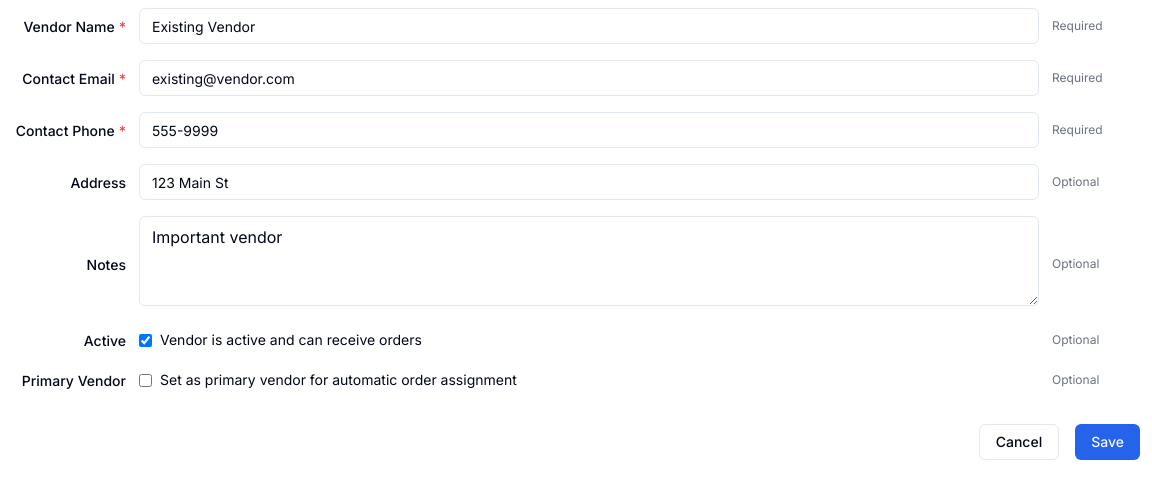
it: VendorForm Component › edit mode › should show warning when setting as primary vendor
The image size is (1152, 497).
Click the checkbox labelled "Primary Vendor". click: (146, 380)
box: [139,374,152,386]
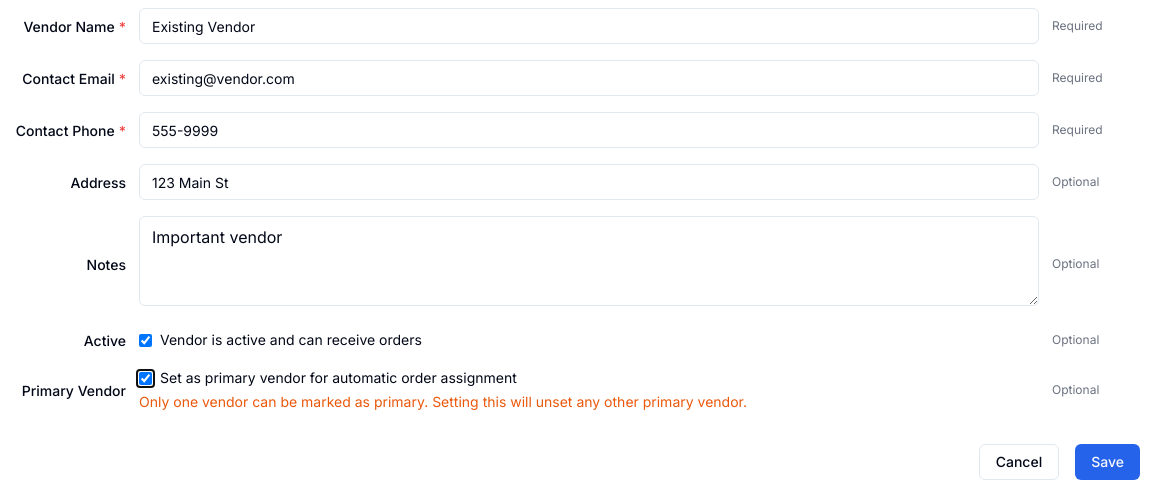
Now the text "Only one vendor can be marked as primary" is shown, box [139,393,747,410]
